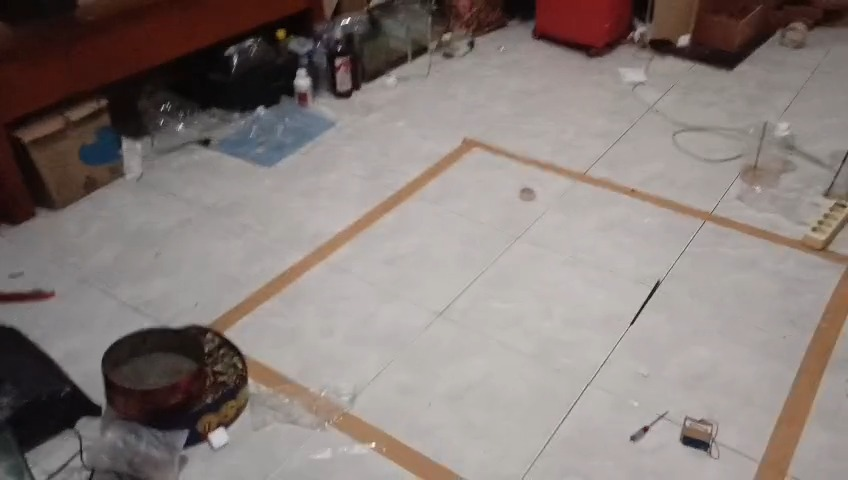floor marking: (210, 138, 847, 332), (245, 354, 459, 478), (754, 267, 847, 479)
